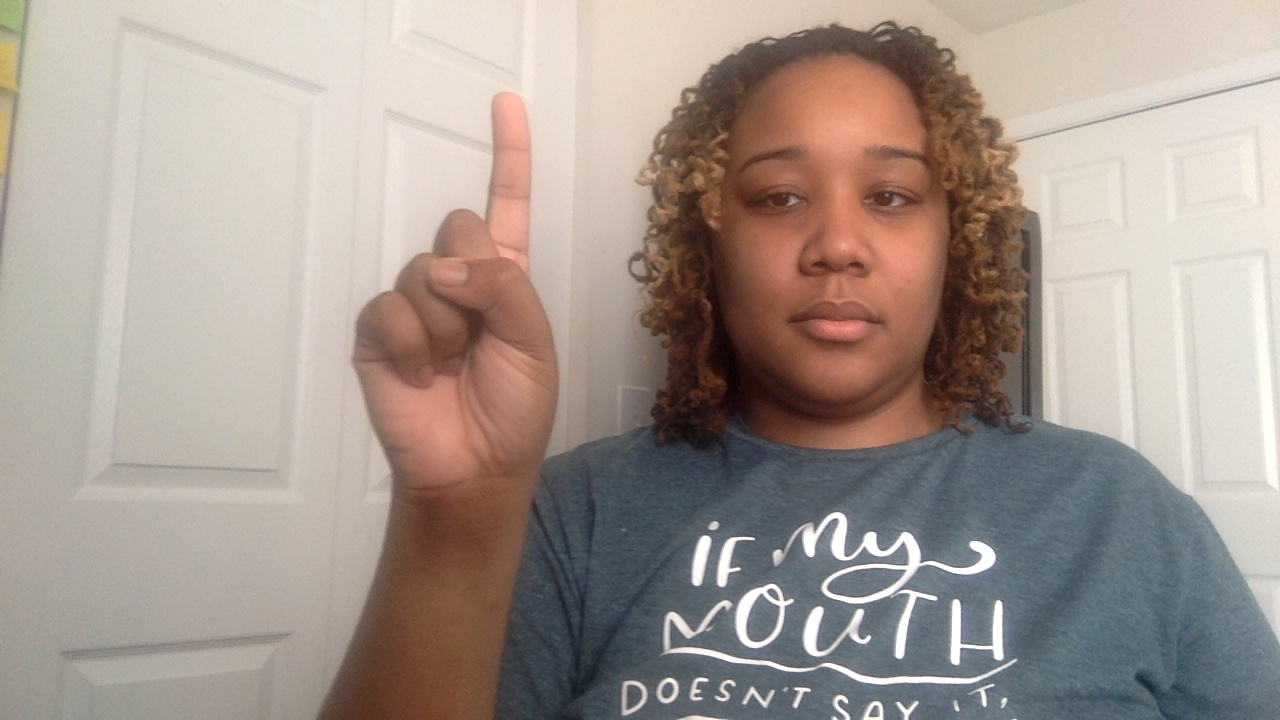up: (320, 81, 605, 720)
